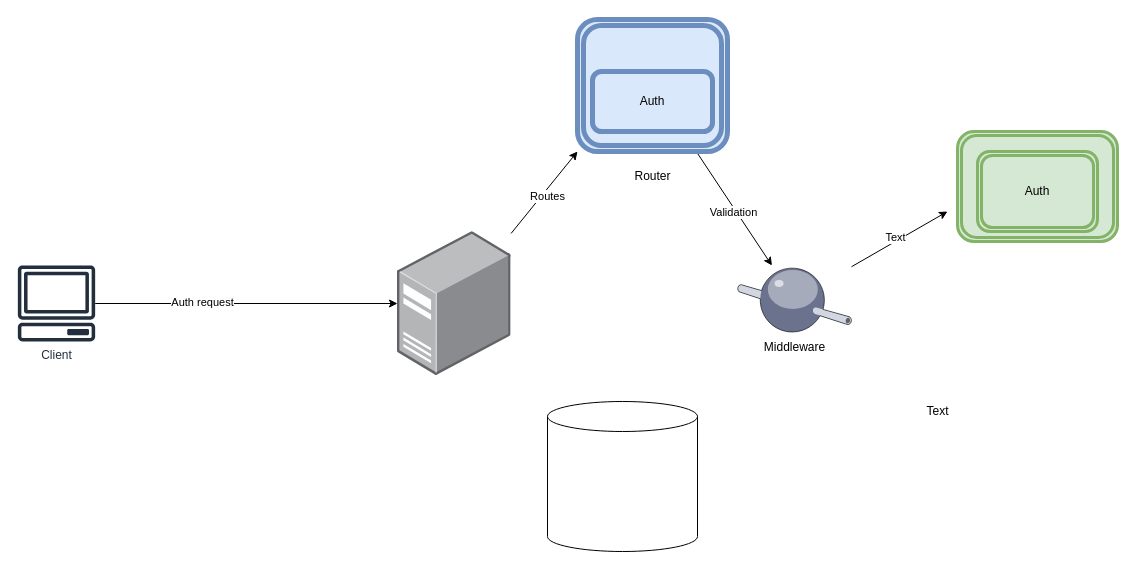
This 1136x569 diagram has some shape labels left out. Here are the shapes that lost their labels. From the top down, the centre of each, then its label:
At [454,303]: "Server".
At [622,476]: "Database postgres".
